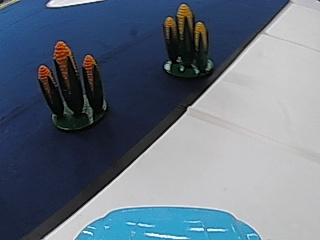corn: (35, 39, 109, 130), (159, 0, 214, 79)
